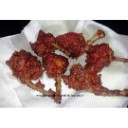chicken_lollipop: (63, 62, 128, 101), (6, 50, 53, 103), (30, 27, 78, 60), (42, 52, 68, 106), (84, 39, 128, 70), (58, 29, 100, 57)
